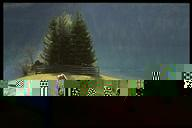sky: (100, 9, 184, 62)
tree: (20, 7, 105, 72)
